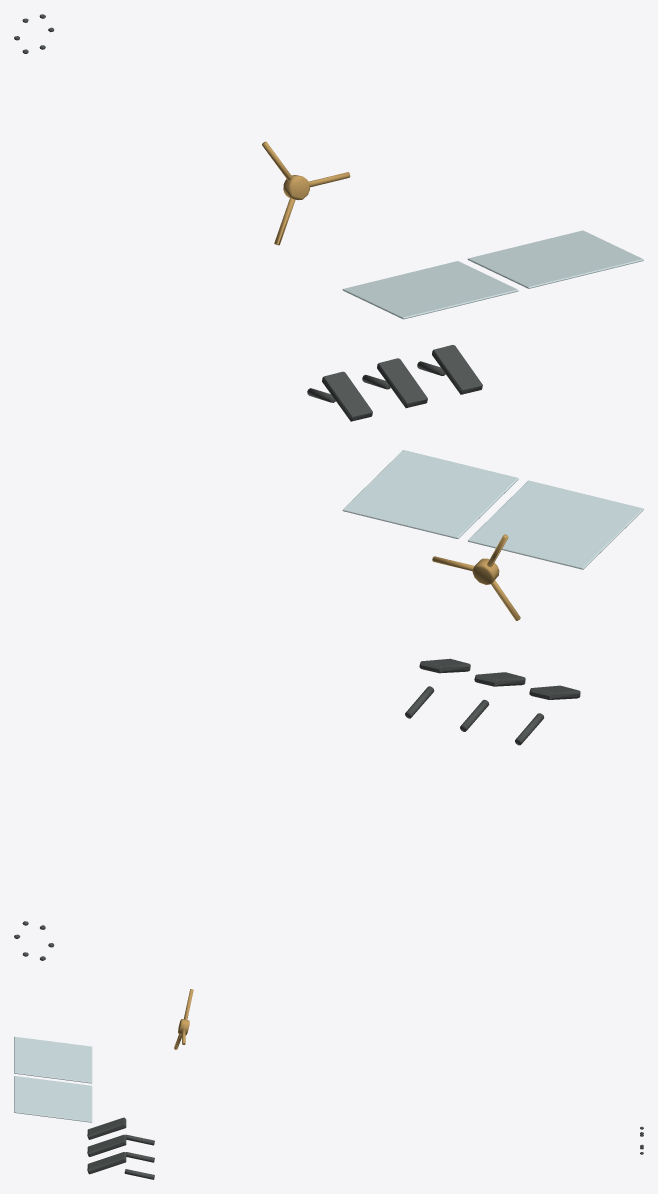
Rendered from RussoBalt_C24_55_LOD2.fbx.
3 views of the same model, one above another, from view 1: azimuth 30°, elevation 25°; view 2: azimuth 150°, elevation 25°; view 3: azimuth 270°, elevation 25° (orthographic). The views are drawn at different scales.
Parts seen in each view (by area): view 1: RB_Windshield_Pivot_OPT_Merged_RB_Acetylene_Glass_OPT_DATA_L, RB_Brake_Pedal_Pivot_OPT_Merged_RB_Steel_Blackened_OPT_DATA_, RB_Clutch_Pedal_Pivot_OPT_Merged_RB_Steel_Blackened_OPT_DATA, RB_Throttle_Pedal_Pivot_OPT_Merged_RB_Steel_Blackened_OPT_DA, RB_SteeringWheel_Pivot_OPT_Merged_RB_Brass_Aged_OPT_DATA_LOD; view 2: RB_Windshield_Pivot_OPT_Merged_RB_Acetylene_Glass_OPT_DATA_L, RB_SteeringWheel_Pivot_OPT_Merged_RB_Brass_Aged_OPT_DATA_LOD, RB_Clutch_Pedal_Pivot_OPT_Merged_RB_Steel_Blackened_OPT_DATA, RB_Brake_Pedal_Pivot_OPT_Merged_RB_Steel_Blackened_OPT_DATA_, RB_Throttle_Pedal_Pivot_OPT_Merged_RB_Steel_Blackened_OPT_DA; view 3: RB_Windshield_Pivot_OPT_Merged_RB_Acetylene_Glass_OPT_DATA_L, RB_Throttle_Pedal_Pivot_OPT_Merged_RB_Steel_Blackened_OPT_DA, RB_Brake_Pedal_Pivot_OPT_Merged_RB_Steel_Blackened_OPT_DATA_, RB_Clutch_Pedal_Pivot_OPT_Merged_RB_Steel_Blackened_OPT_DATA, RB_SteeringWheel_Pivot_OPT_Merged_RB_Brass_Aged_OPT_DATA_LOD.
Part boxes in pixels (left/top/right/bottom): RB_Windshield_Pivot_OPT_Merged_RB_Acetylene_Glass_OPT_DATA_L: left=342, top=230, right=643, bottom=319; RB_Brake_Pedal_Pivot_OPT_Merged_RB_Steel_Blackened_OPT_DATA_: left=362, top=358, right=427, bottom=408; RB_Clutch_Pedal_Pivot_OPT_Merged_RB_Steel_Blackened_OPT_DATA: left=307, top=371, right=372, bottom=421; RB_Throttle_Pedal_Pivot_OPT_Merged_RB_Steel_Blackened_OPT_DA: left=417, top=345, right=482, bottom=394; RB_SteeringWheel_Pivot_OPT_Merged_RB_Brass_Aged_OPT_DATA_LOD: left=262, top=141, right=350, bottom=245; RB_Windshield_Pivot_OPT_Merged_RB_Acetylene_Glass_OPT_DATA_L: left=342, top=450, right=643, bottom=569; RB_SteeringWheel_Pivot_OPT_Merged_RB_Brass_Aged_OPT_DATA_LOD: left=432, top=534, right=520, bottom=620; RB_Clutch_Pedal_Pivot_OPT_Merged_RB_Steel_Blackened_OPT_DATA: left=515, top=685, right=580, bottom=745; RB_Brake_Pedal_Pivot_OPT_Merged_RB_Steel_Blackened_OPT_DATA_: left=460, top=672, right=525, bottom=731; RB_Throttle_Pedal_Pivot_OPT_Merged_RB_Steel_Blackened_OPT_DA: left=405, top=658, right=470, bottom=718; RB_Windshield_Pivot_OPT_Merged_RB_Acetylene_Glass_OPT_DATA_L: left=14, top=1036, right=92, bottom=1122; RB_Throttle_Pedal_Pivot_OPT_Merged_RB_Steel_Blackened_OPT_DA: left=87, top=1152, right=154, bottom=1179; RB_Brake_Pedal_Pivot_OPT_Merged_RB_Steel_Blackened_OPT_DATA_: left=87, top=1134, right=154, bottom=1162; RB_Clutch_Pedal_Pivot_OPT_Merged_RB_Steel_Blackened_OPT_DATA: left=87, top=1117, right=154, bottom=1145; RB_SteeringWheel_Pivot_OPT_Merged_RB_Brass_Aged_OPT_DATA_LOD: left=174, top=989, right=193, bottom=1049.
Size of what is drawn, in the model's own units: 79.76 by 73.87 by 279.
